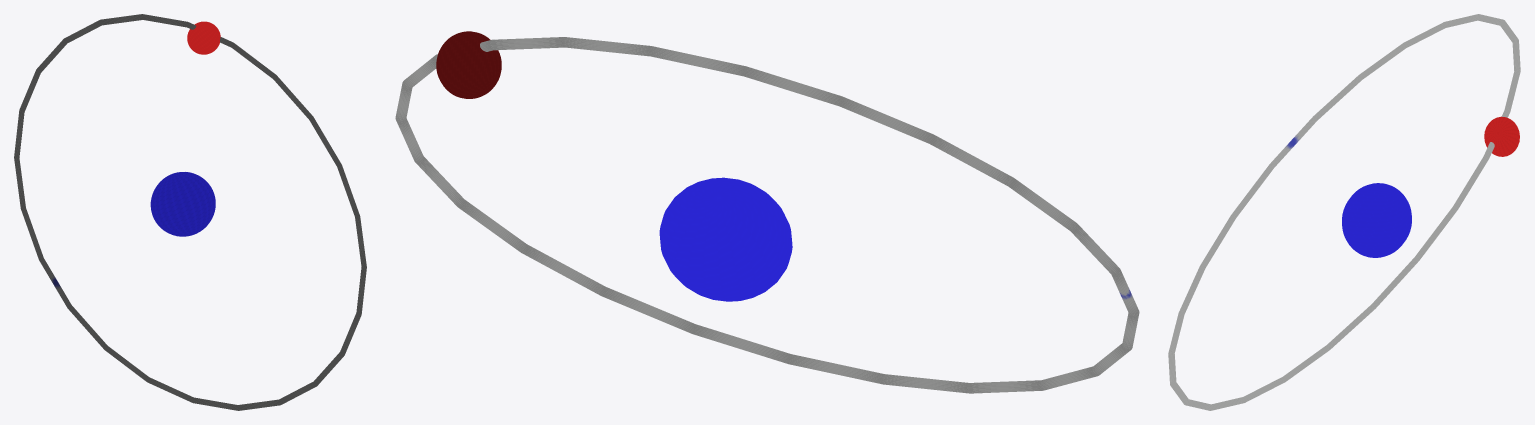
Rendered from hydrogen.fbx.
3 renders of one model, left to right at view 1: azimuth 30°, elevation 25°; view 2: azimuth 150°, elevation 25°; view 3: azimuth 270°, elevation 25°, orthographic. The views are drawn at different scales.
Visible parts, largest first — view 1: node_id4, node_id9, node_id7; view 2: node_id4, node_id9, node_id7; view 3: node_id4, node_id9, node_id7.
Boxes of the visible parts, x1,y1,x2,y2 form: node_id4: (14,14,366,410); node_id9: (150,172,215,236); node_id7: (187,21,220,54); node_id4: (395,37,1139,393); node_id9: (659,177,792,301); node_id7: (436,31,501,98); node_id4: (1168,14,1520,410); node_id9: (1342,183,1411,257); node_id7: (1484,116,1519,156).
Bounding box in the file's own units: 0.1753 × 0.1455 × 0.1405.
3 materials, 1 textured.
